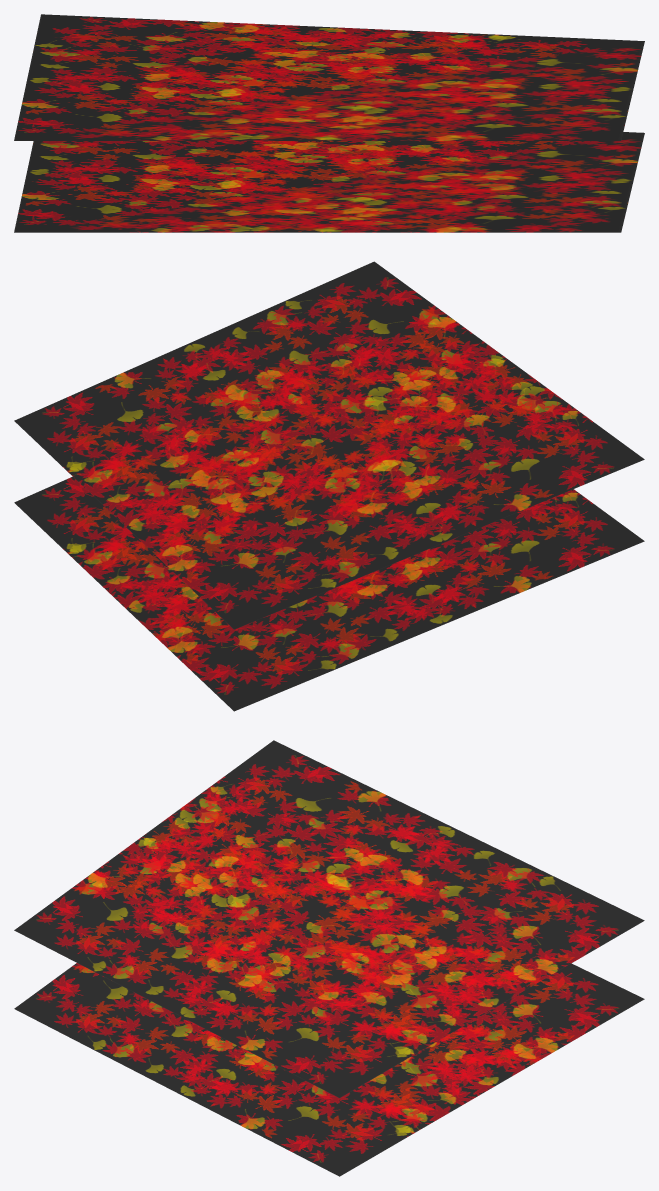
The model's file is OBJ_CourseAki_CurveFloor_3_6.fbx.
3 renders of one model, top to bottom at view 1: azimuth 30°, elevation 25°; view 2: azimuth 150°, elevation 25°; view 3: azimuth 270°, elevation 25°, orthographic. The views are drawn at different scales.
Visible parts, largest first — view 1: polySurface106, polySurface107; view 2: polySurface106, polySurface107; view 3: polySurface106, polySurface107.
Boxes of the visible parts, x1,y1,x2,y2 form: polySurface106: [14, 14, 644, 140]; polySurface107: [14, 132, 644, 232]; polySurface106: [14, 261, 644, 629]; polySurface107: [14, 476, 644, 711]; polySurface106: [14, 740, 644, 1097]; polySurface107: [14, 963, 644, 1176].
Size of the model in its own units: 7.64 by 2 by 7.29.
Materials: 1 (1 with a texture image).
